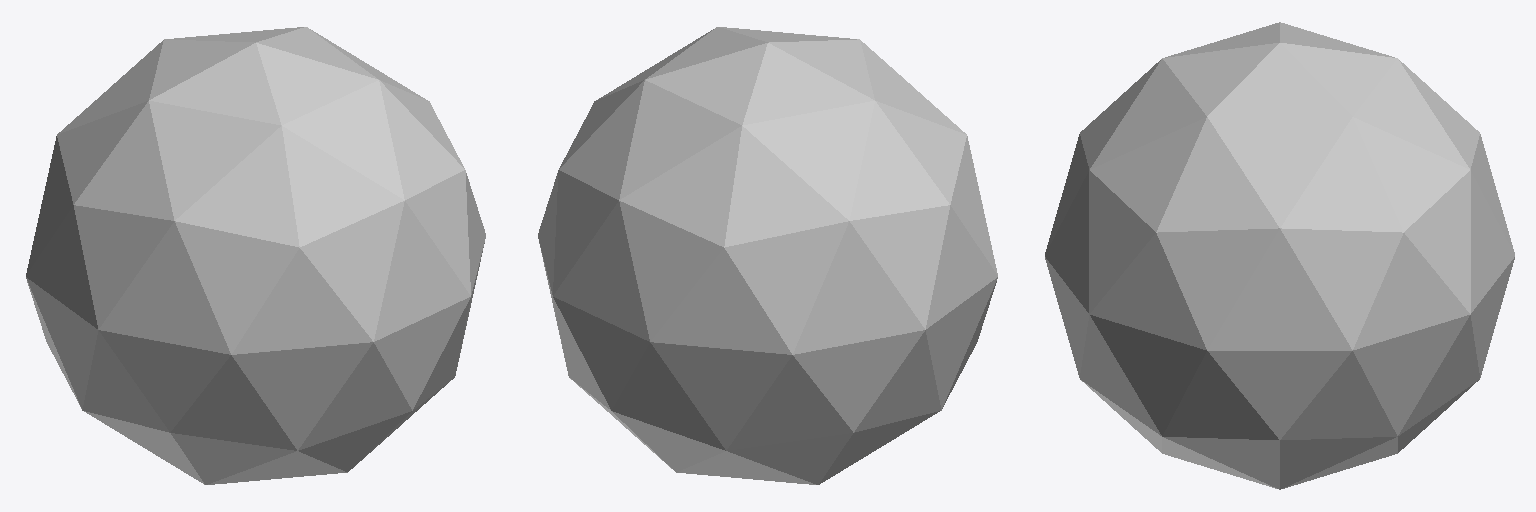
Rendered from cloudPart.obj.
The picture shows the model from 3 angles: view 1: azimuth 30°, elevation 25°; view 2: azimuth 150°, elevation 25°; view 3: azimuth 270°, elevation 25°; orthographic projection.
Visible parts, largest first — view 1: Icosphere; view 2: Icosphere; view 3: Icosphere.
Boxes of the visible parts, x1,y1,x2,y2 form: Icosphere: [26, 27, 485, 484]; Icosphere: [538, 27, 997, 484]; Icosphere: [1045, 22, 1514, 489].
Size of the model in its own units: 0.5925 by 0.623 by 0.623.